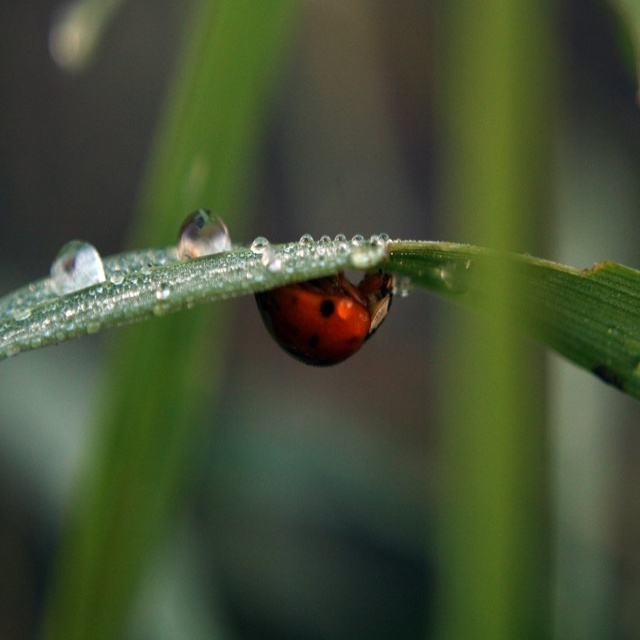Ladybug: (254, 250, 393, 363)
